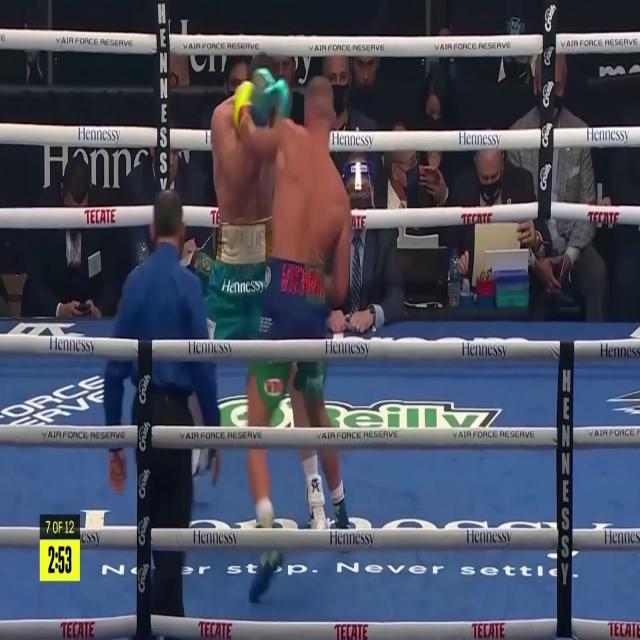boxer_1: (272, 78, 347, 265)
boxer_2: (211, 97, 264, 223), (250, 55, 280, 78)
gloves_1: (234, 82, 253, 133)
gloves_2: (249, 69, 290, 129)
